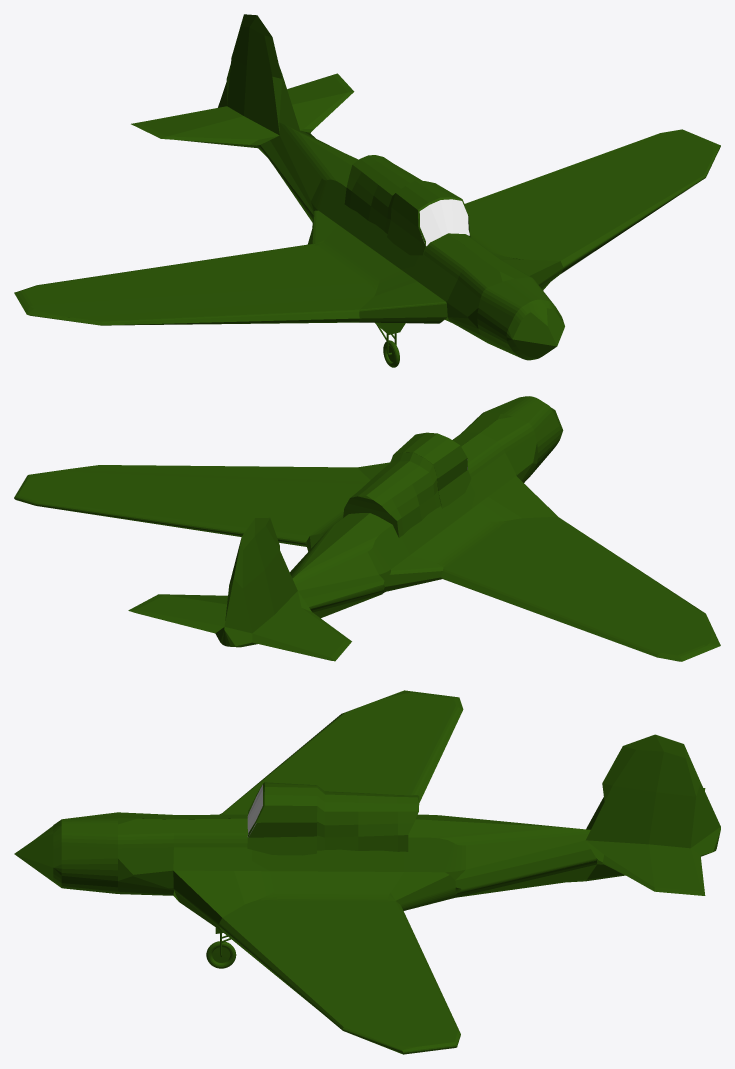
3 renders of one model, top to bottom at view 1: azimuth 30°, elevation 25°; view 2: azimuth 150°, elevation 25°; view 3: azimuth 270°, elevation 25°, orthographic. The views are drawn at different scales.
Parts seen in each view (by area): view 1: Куб.007, Куб.001, Куб.002; view 2: Куб.007, Куб.001; view 3: Куб.007, Куб.001.
Boxes of the visible parts, bbox=[...] form: Куб.007: bbox=[14, 14, 720, 367]; Куб.001: bbox=[387, 180, 470, 255]; Куб.002: bbox=[419, 199, 469, 246]; Куб.007: bbox=[14, 396, 720, 661]; Куб.001: bbox=[394, 432, 471, 508]; Куб.007: bbox=[14, 690, 720, 1054]; Куб.001: bbox=[247, 782, 317, 855].
Bounding box in the file's own units: 1272 × 326 × 1050.
